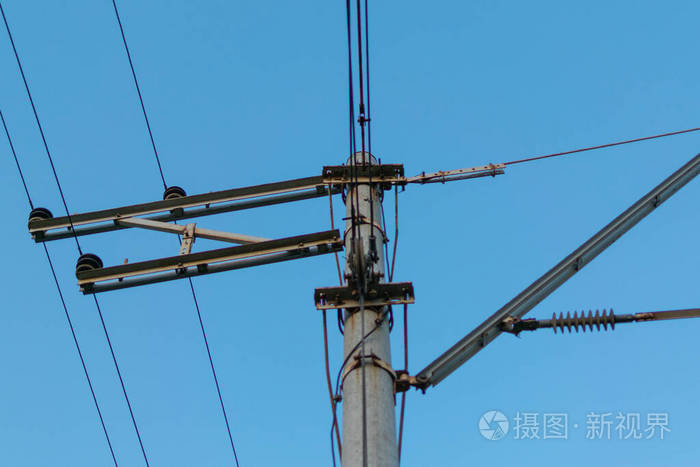insulator: (548, 307, 616, 337)
